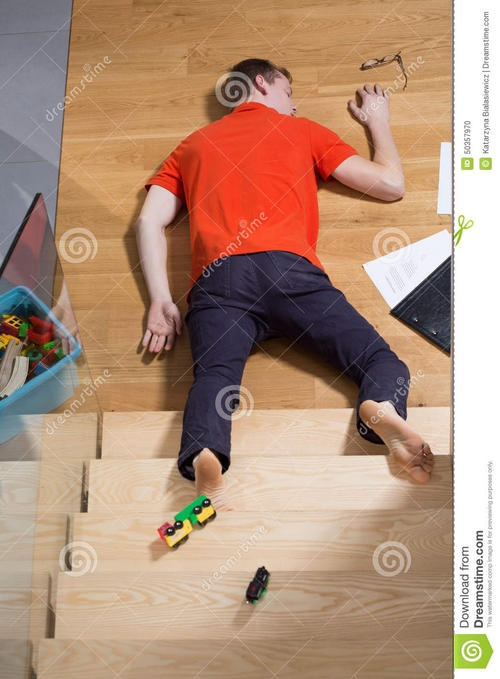falling: (122, 24, 437, 561)
